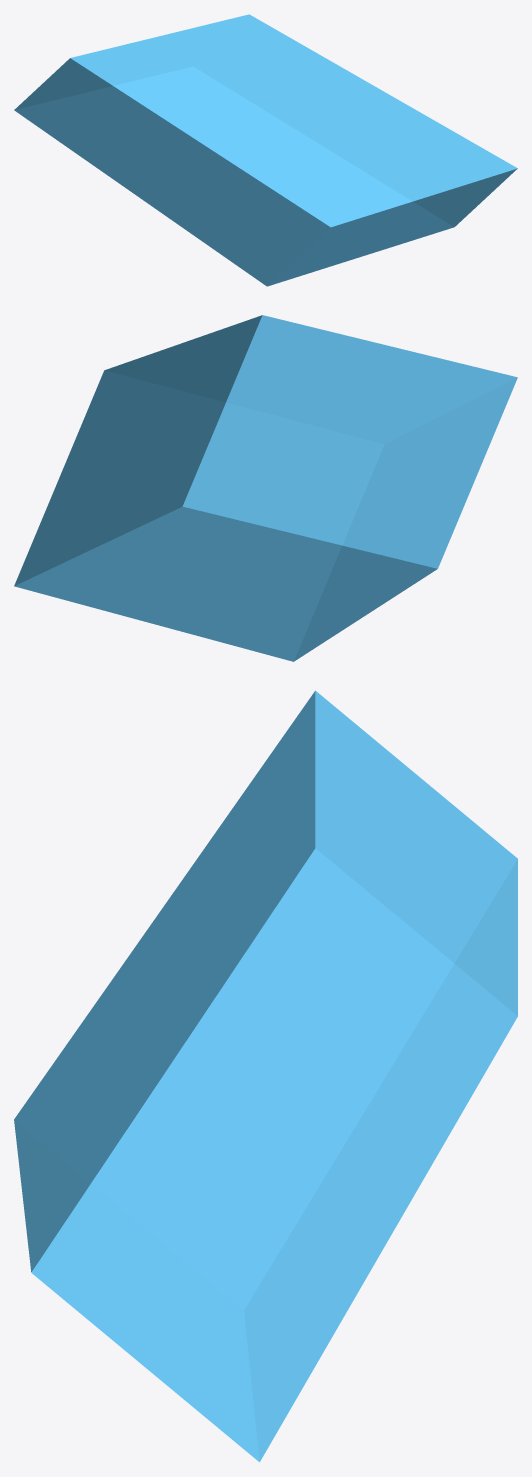
File: Event_421364160_HBrechit_32.fbx
3 views of the same model, one above another, from view 1: azimuth 30°, elevation 25°; view 2: azimuth 150°, elevation 25°; view 3: azimuth 270°, elevation 25° (orthographic). The views are drawn at different scales.
Parts seen in each view (by area): view 1: Model; view 2: Model; view 3: Model.
Part boxes in pixels (left/top/right/bottom): Model: left=14, top=14, right=517, bottom=286; Model: left=14, top=315, right=517, bottom=661; Model: left=14, top=690, right=517, bottom=1462.
Size of the model in its own units: 1.12 by 0.7487 by 0.7367.
